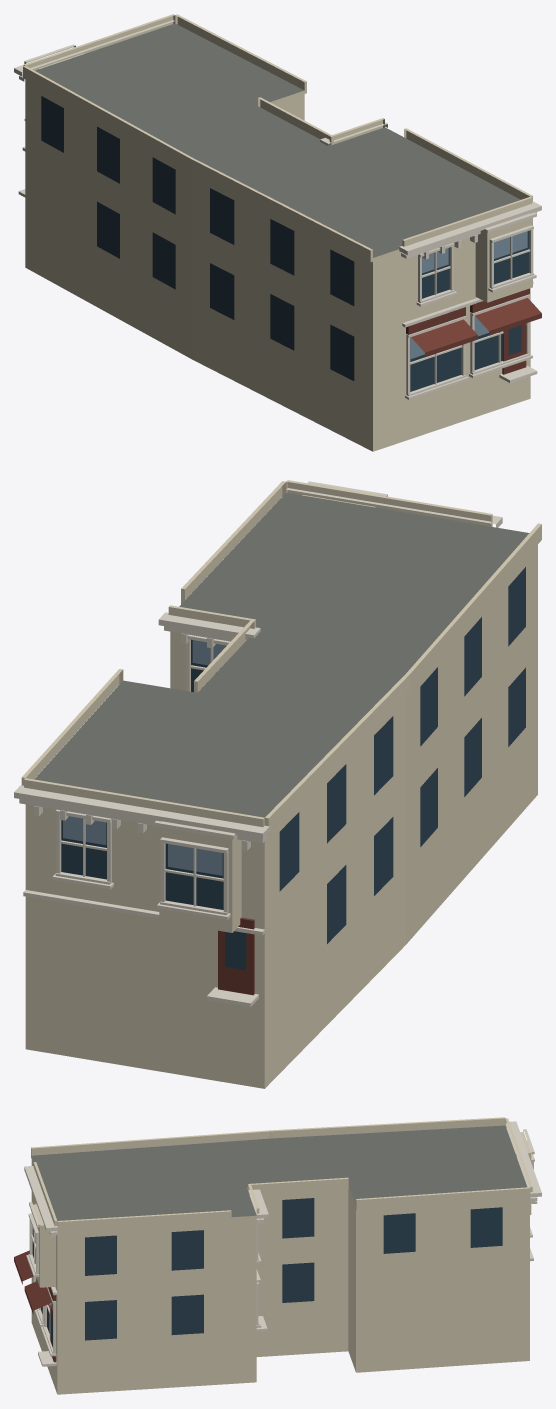
3 renders of one model, top to bottom at view 1: azimuth 30°, elevation 25°; view 2: azimuth 150°, elevation 25°; view 3: azimuth 270°, elevation 25°, orthographic. The views are drawn at different scales.
Visible parts, largest first — view 1: Footprint 0 / surface 2, Footprint 0 / surface 1, Inset glazing, Facade bay volumes, Cornices and window frames, Storefronts and doors, Sky reflection panels; view 2: Footprint 0 / surface 2, Footprint 0 / surface 1, Facade bay volumes, Inset glazing, Cornices and window frames, Sky reflection panels, Storefronts and doors; view 3: Footprint 0 / surface 2, Footprint 0 / surface 1, Facade bay volumes, Inset glazing, Cornices and window frames, Storefronts and doors.
Boxes of the visible parts, x1,y1,x2,y2 form: Footprint 0 / surface 2: (25, 79, 530, 451); Footprint 0 / surface 1: (35, 23, 520, 257); Inset glazing: (41, 96, 529, 391); Facade bay volumes: (23, 14, 532, 302); Cornices and window frames: (14, 20, 541, 399); Storefronts and doors: (406, 288, 541, 374); Sky reflection panels: (410, 231, 527, 358); Footprint 0 / surface 2: (25, 545, 537, 1088); Footprint 0 / surface 1: (34, 493, 529, 817); Facade bay volumes: (21, 480, 541, 932); Inset glazing: (61, 567, 525, 970); Cornices and window frames: (14, 481, 502, 1007); Sky reflection panels: (63, 640, 229, 875); Storefronts and doors: (218, 917, 254, 995); Footprint 0 / surface 2: (31, 1157, 529, 1394); Footprint 0 / surface 1: (31, 1125, 527, 1220); Facade bay volumes: (31, 1117, 532, 1287); Inset glazing: (32, 1198, 502, 1344); Cornices and window frames: (24, 1121, 541, 1366); Storefronts and doors: (14, 1250, 56, 1362).
Bounding box in the file's own units: 11.29 × 8.56 × 23.58.
